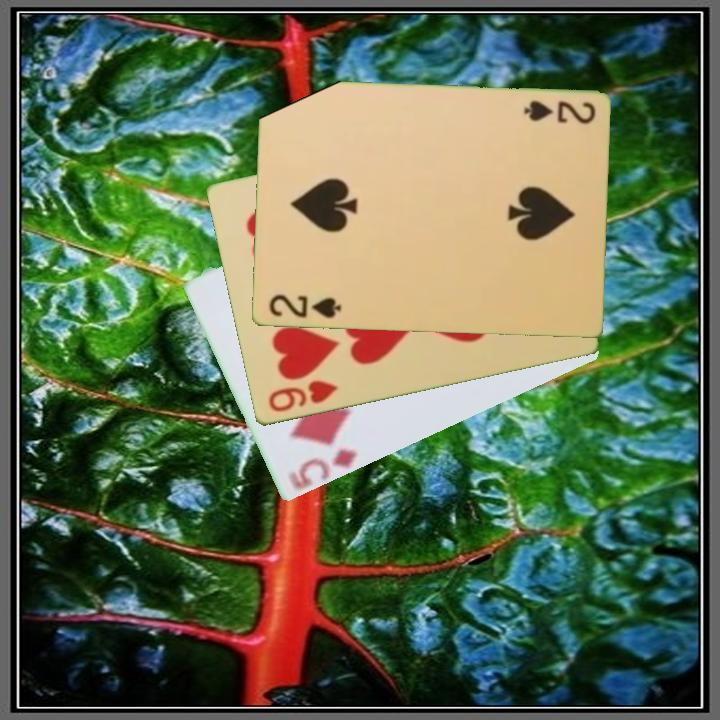2s: (265, 291, 344, 322), (519, 97, 598, 127)
5d: (284, 445, 361, 493)
9h: (264, 377, 341, 416)
